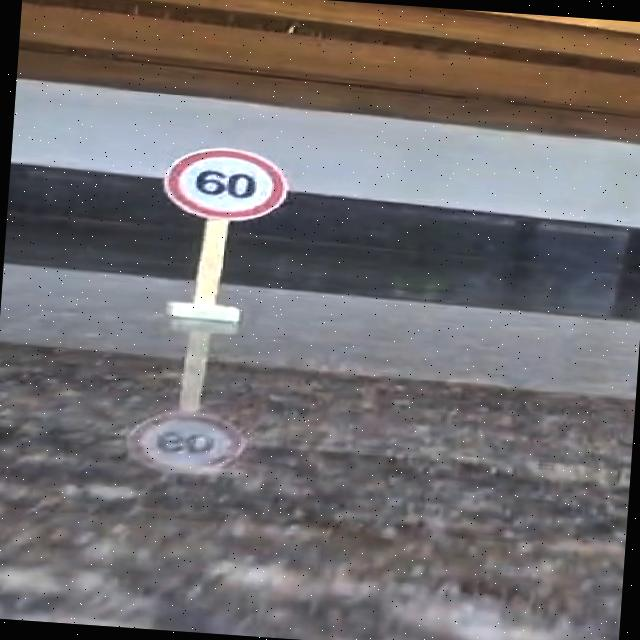Speed60: (157, 142, 293, 228)
